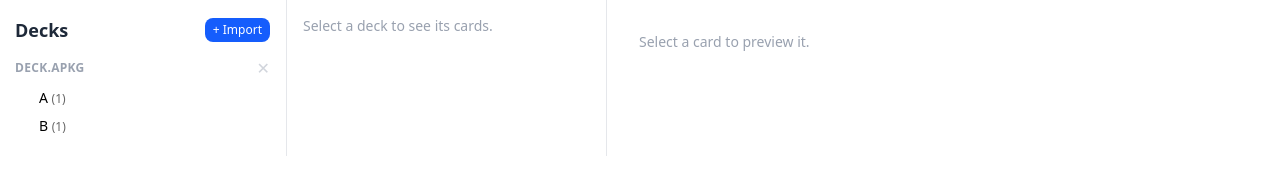
Test case: Flashcards page › does not show the previous deck's cards after switching decks (CardList remounts on deck change)
This screenshot has width=1279, height=173.
Click the button "A (1)" at point(150, 98), box [31,84,270,112]
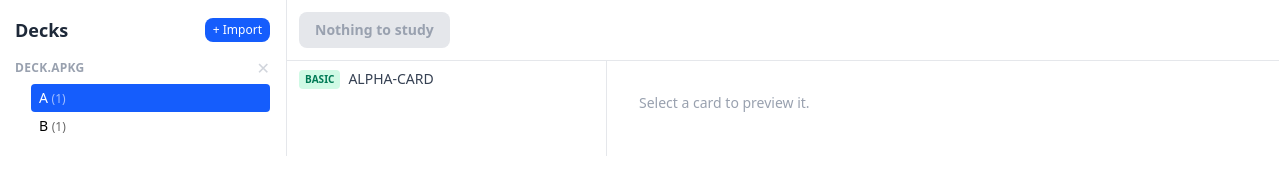
Now the text "ALPHA-CARD" is shown, box [348,69,434,88]
Click the button "B (1)" at point(150, 126), box [31,112,270,140]
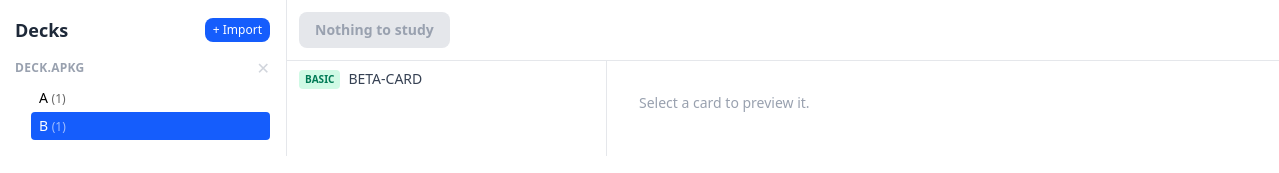
Now the text "BETA-CARD" is shown, box [348,69,422,88]
Now the button "ALPHA-CARD" is gone
